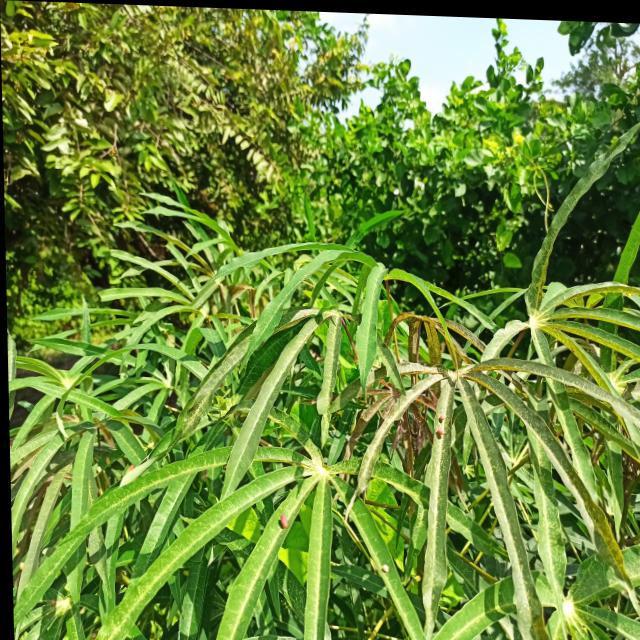Maleza: (0, 0, 298, 201), (211, 78, 575, 225), (400, 67, 640, 232)
Mosca: (427, 404, 454, 447), (29, 540, 61, 564), (88, 479, 109, 509), (272, 506, 294, 534), (374, 559, 395, 582)
